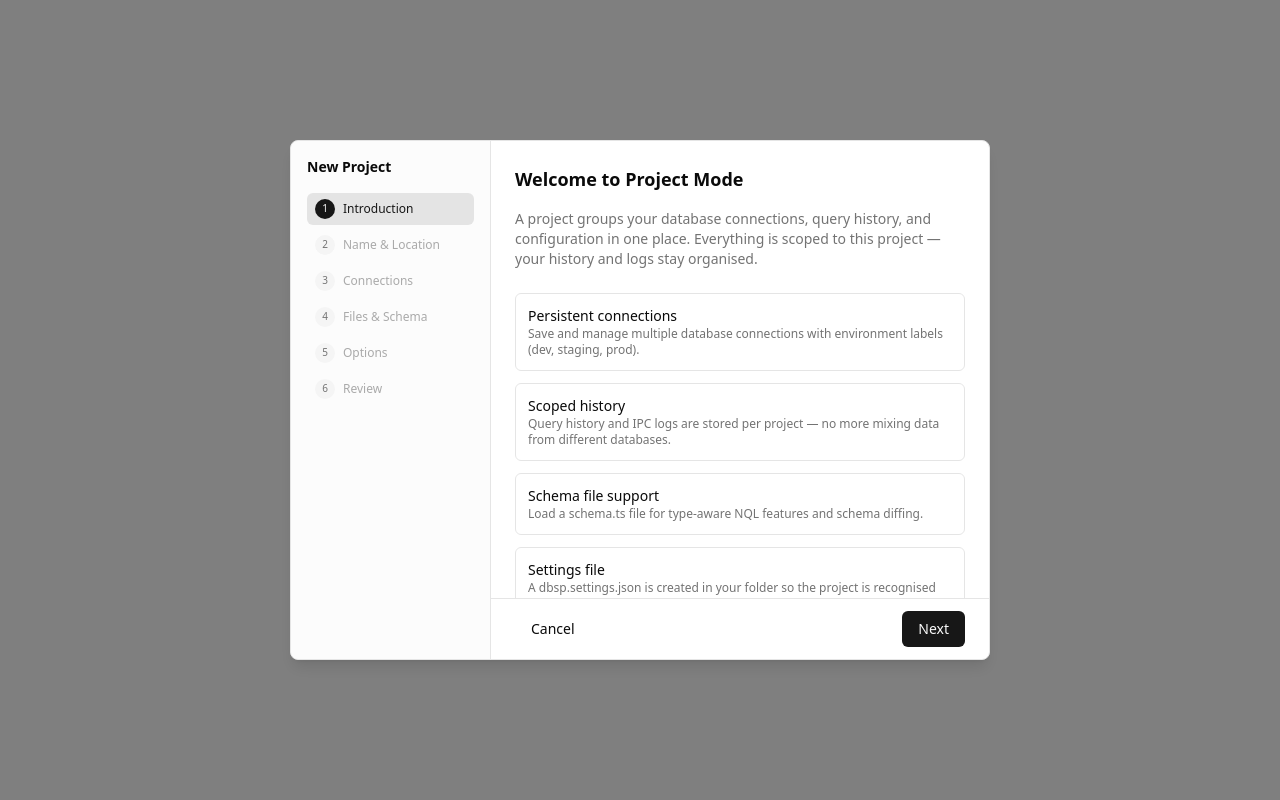
it: NewProjectWizard › shows zero connections warning on step 2
Click the button with test id "wizard-next" at (934, 629), box x1=902 y1=611 x2=965 y2=647
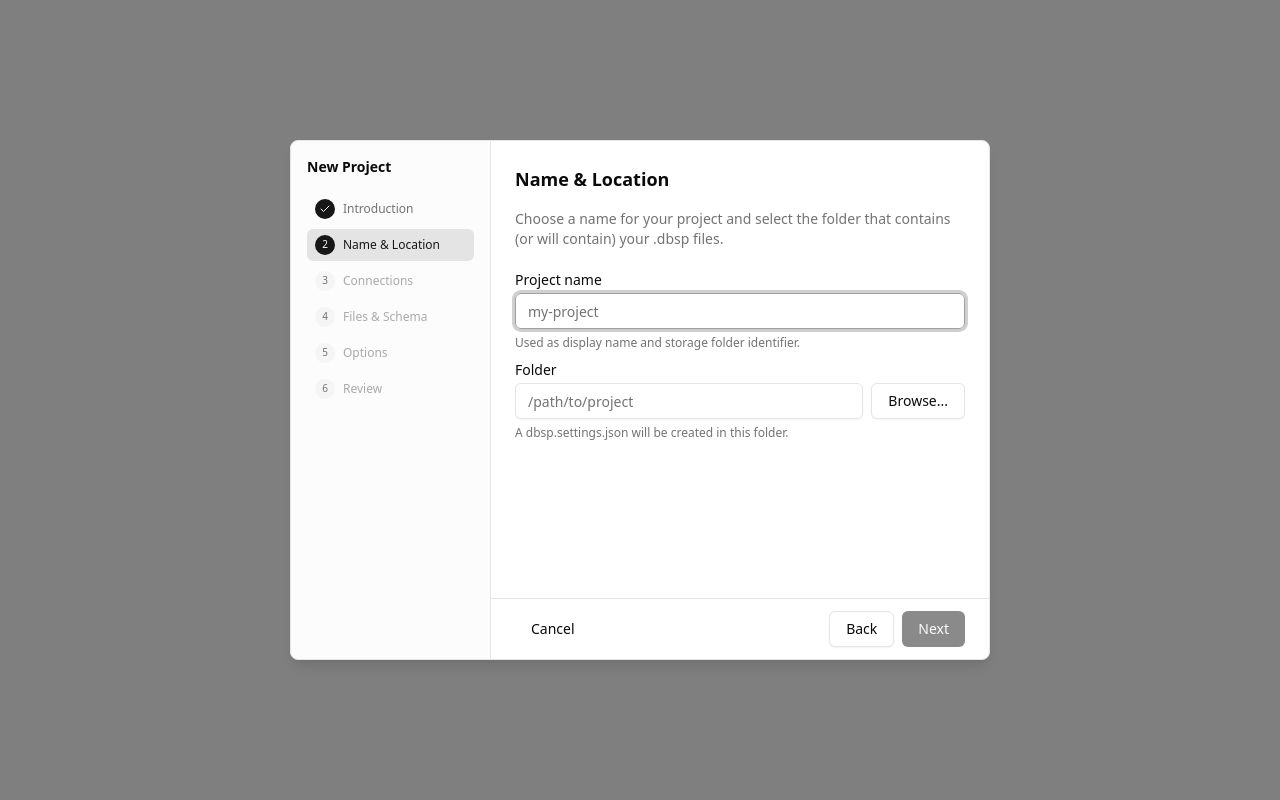
Type "x" into the field with placeholder "my-project" at (740, 311), box x1=515 y1=293 x2=965 y2=329
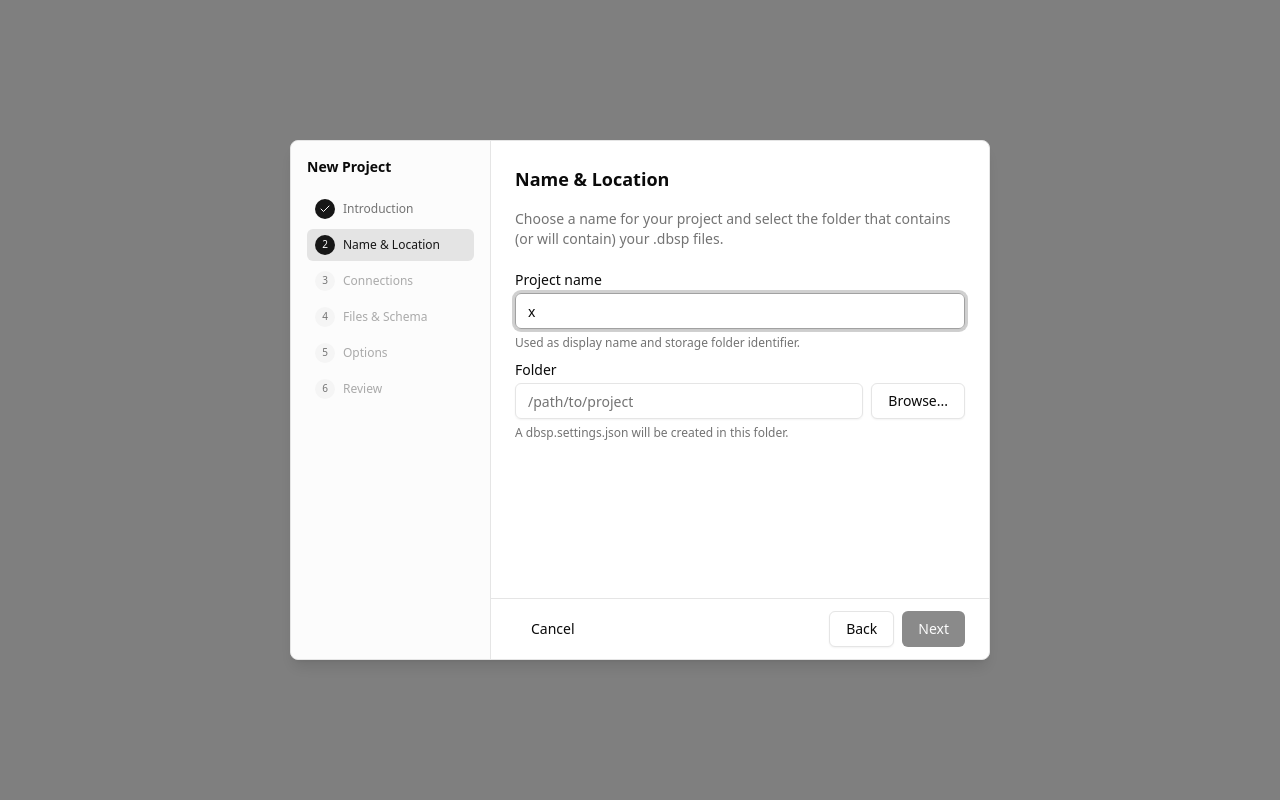
Type "/x" into the field with placeholder "/path/to/project" at (689, 401), box x1=515 y1=383 x2=863 y2=419
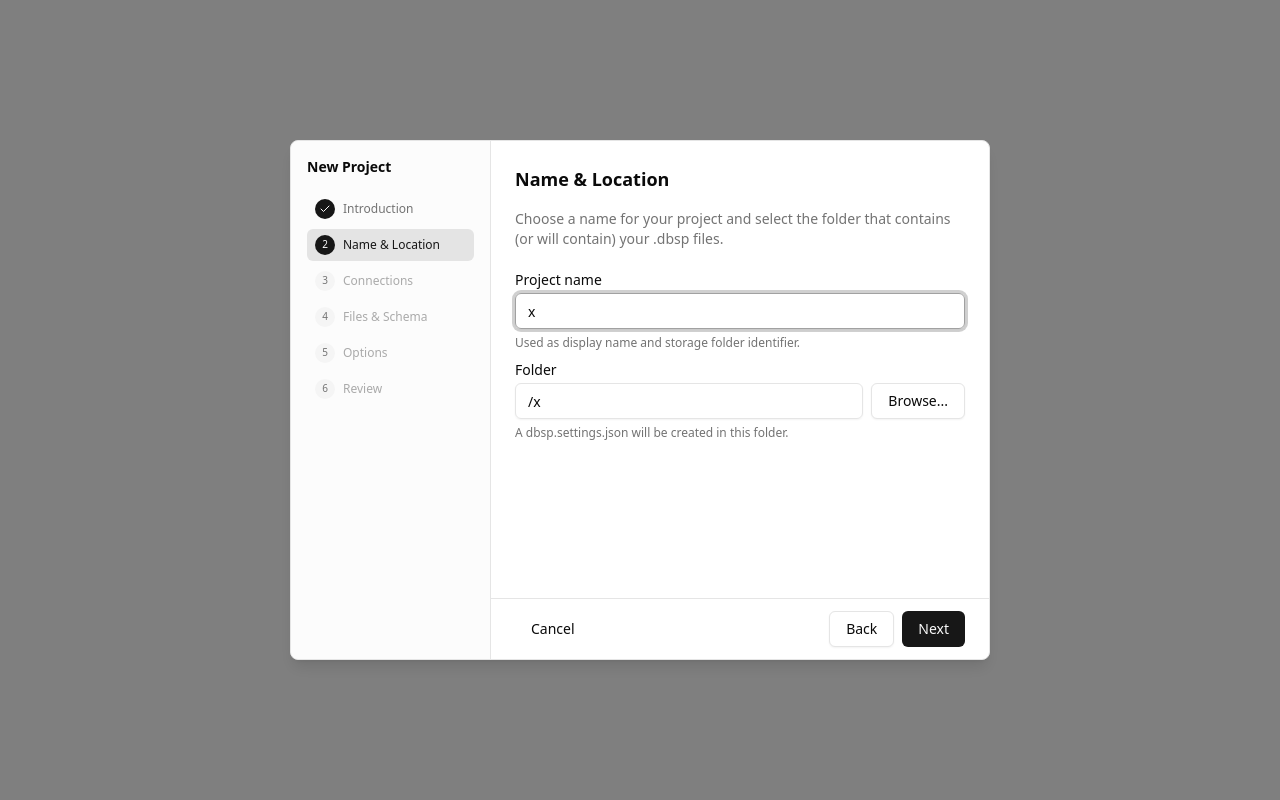
Click the button with test id "wizard-next" at (934, 629), box x1=902 y1=611 x2=965 y2=647
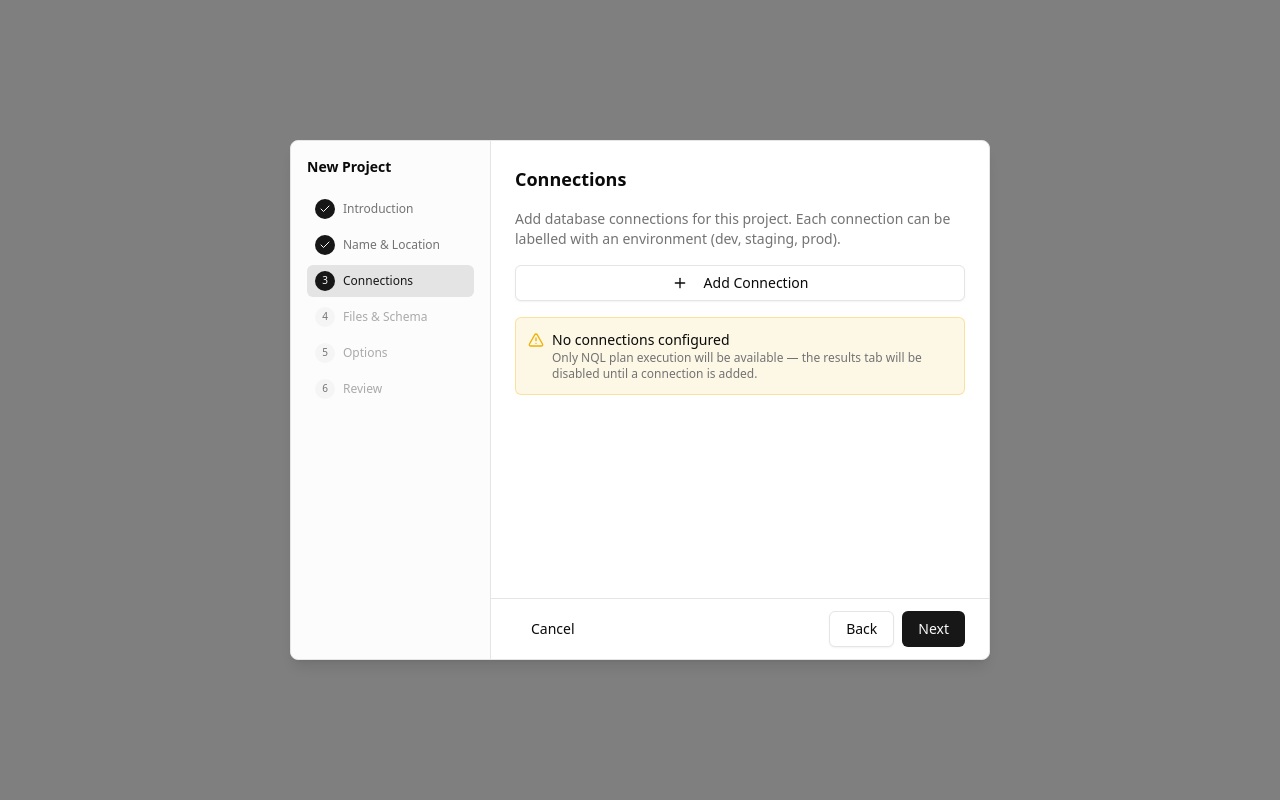
Expected: the element with test id "zero-connections-warning" is shown, x1=515 y1=317 x2=965 y2=395
